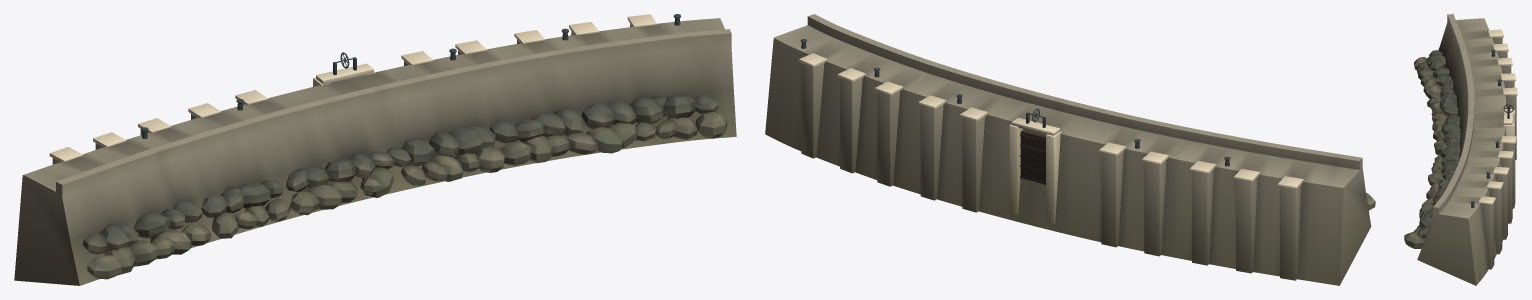
The model's file is sea_wall.glb.
3 views of the same model, side by side, from view 1: azimuth 30°, elevation 25°; view 2: azimuth 150°, elevation 25°; view 3: azimuth 270°, elevation 25° (orthographic). The views are drawn at different scales.
Visible parts, largest first — view 1: sea_wall; view 2: sea_wall; view 3: sea_wall.
Part boxes in pixels (x1,y1,x2,y2): sea_wall: (14, 14, 736, 285); sea_wall: (765, 14, 1375, 285); sea_wall: (1404, 14, 1517, 285).
Bounding box in the file's own units: 62.76 × 11.65 × 14.91.
